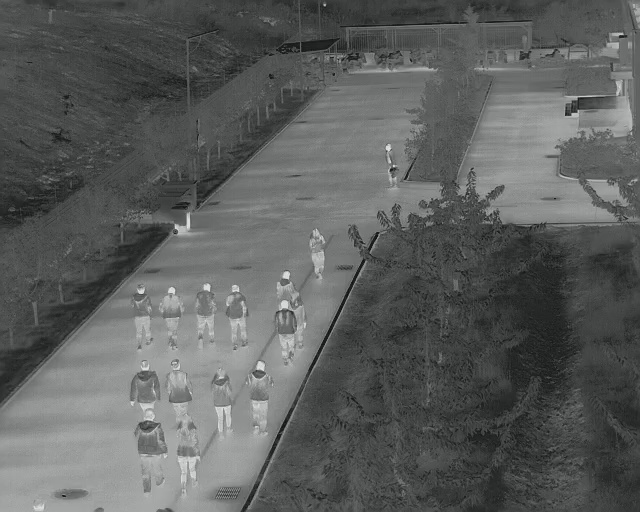person: (134, 408, 168, 497), (245, 359, 274, 439), (175, 414, 201, 497), (209, 366, 235, 442), (164, 358, 194, 422), (224, 284, 250, 351), (273, 299, 298, 367), (131, 283, 155, 353), (130, 359, 161, 413), (194, 282, 217, 351), (159, 286, 183, 351), (308, 227, 327, 283), (384, 143, 401, 188)
